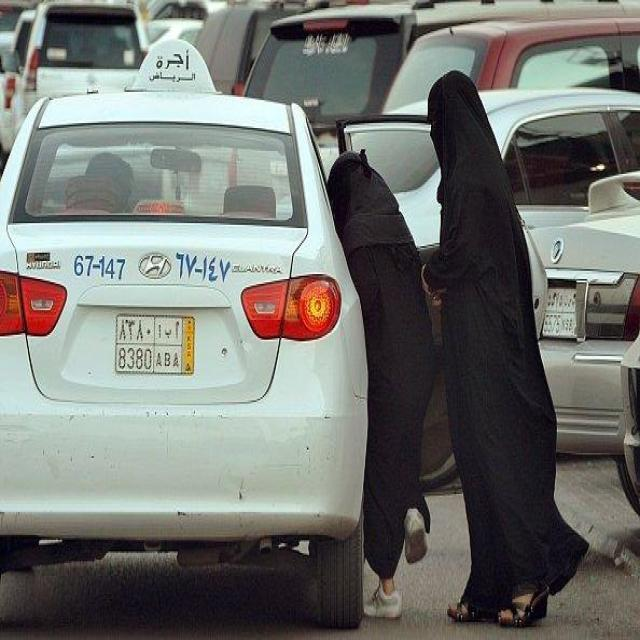license_plate: (105, 298, 198, 382), (529, 271, 584, 343)
